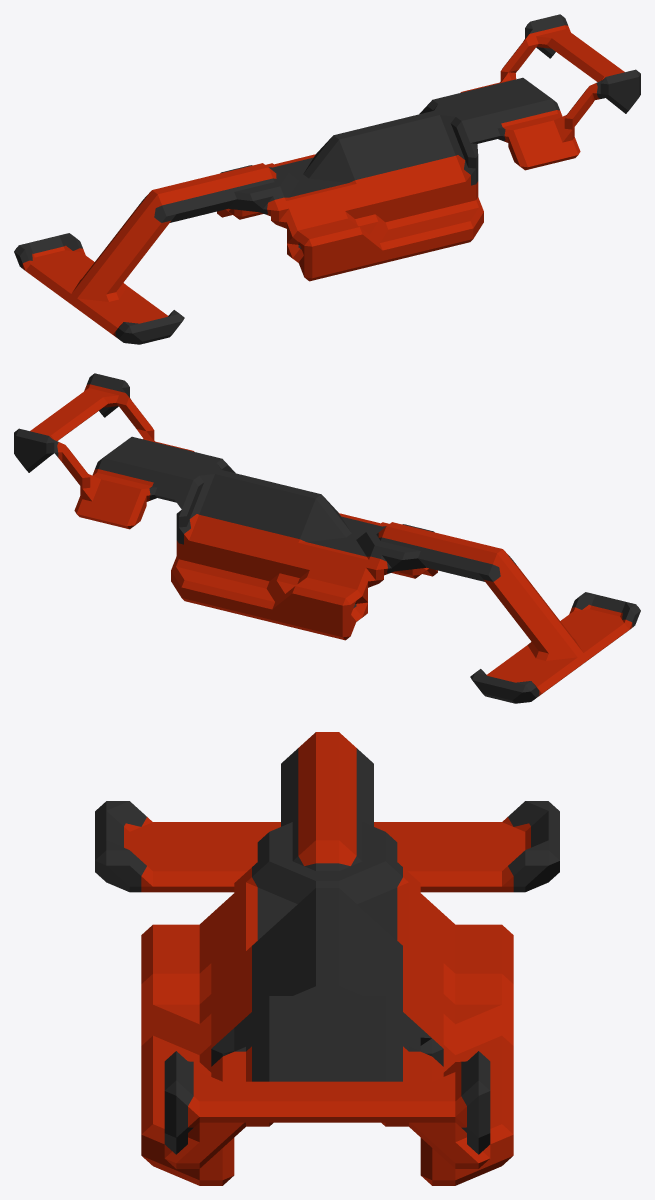
File: f1_red.fbx
3 renders of one model, top to bottom at view 1: azimuth 30°, elevation 25°; view 2: azimuth 150°, elevation 25°; view 3: azimuth 270°, elevation 25°, orthographic. The views are drawn at different scales.
Parts seen in each view (by area): view 1: f1_red; view 2: f1_red; view 3: f1_red.
Part boxes in pixels (x1=…): f1_red: x1=14, y1=14, x2=640, y2=344; f1_red: x1=14, y1=373, x2=640, y2=703; f1_red: x1=95, y1=732, x2=559, y2=1185.
Size of the model in its own units: 5300 by 1300 by 2000.
